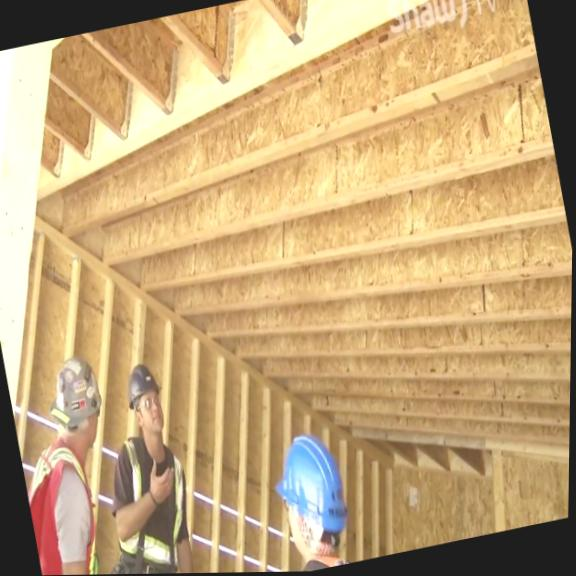safety_vest: (98, 427, 202, 574), (17, 435, 115, 576), (286, 551, 358, 572)
